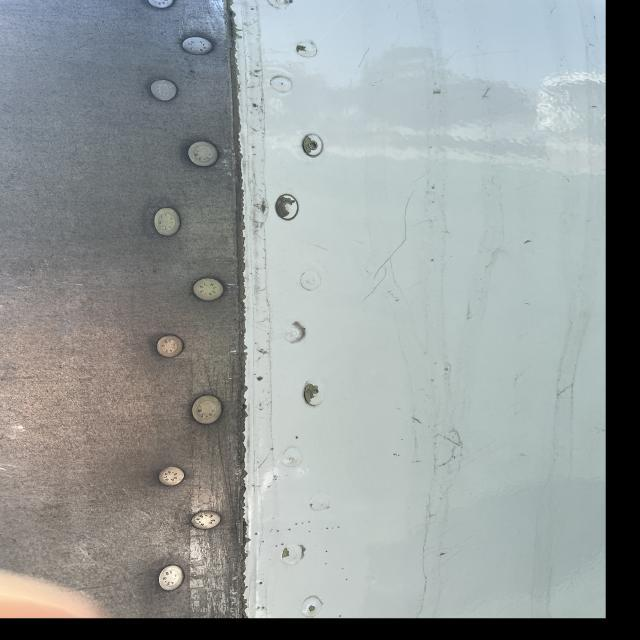crack: (366, 192, 439, 313), (412, 428, 474, 475)
